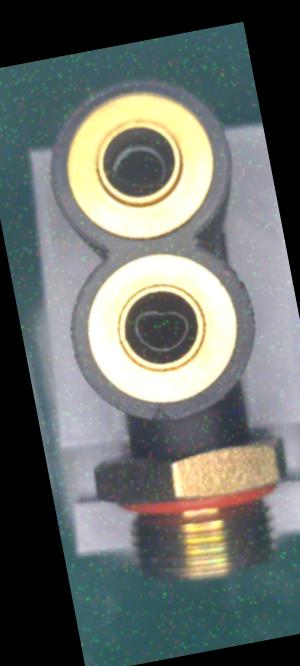bump: (141, 397, 181, 432)
off-centered: (100, 131, 172, 205), (126, 297, 194, 361)
